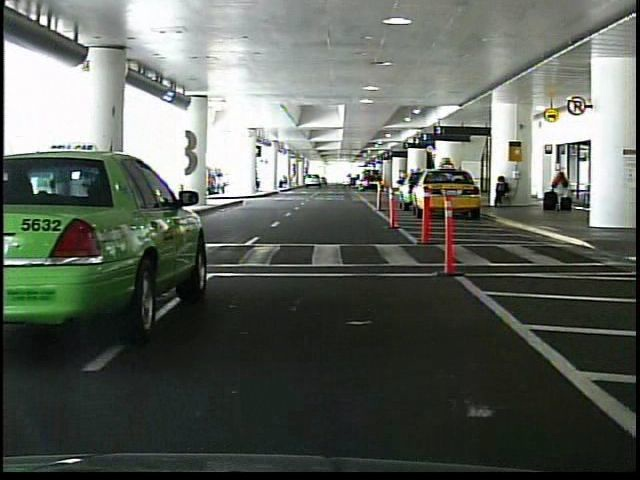person: (45, 147, 71, 230), (552, 163, 573, 213), (491, 174, 512, 208)
